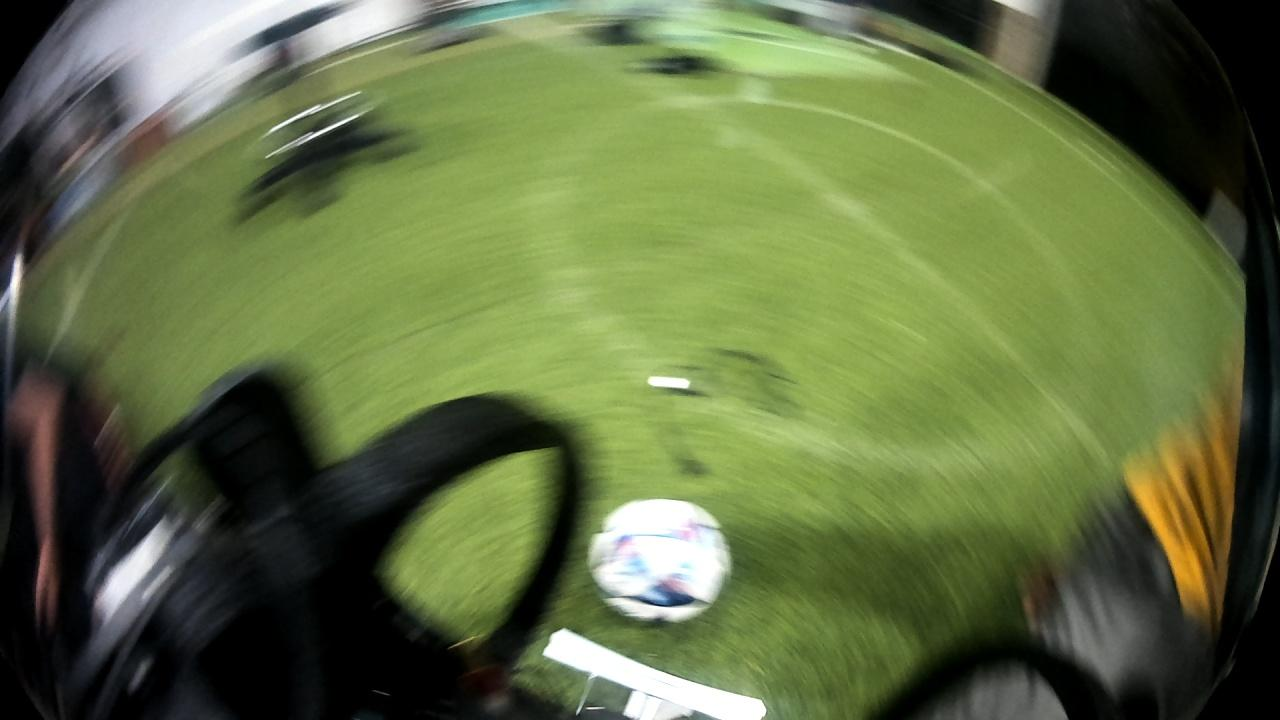ball: (587, 492, 732, 629)
